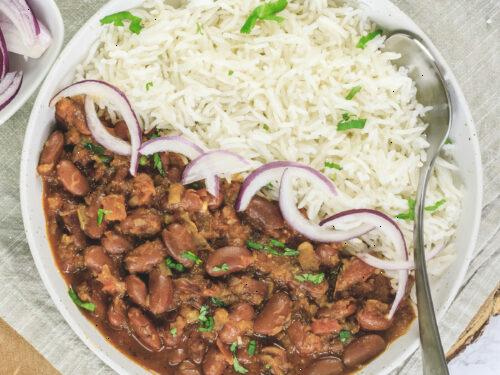rajma: (55, 161, 349, 375)
rice: (116, 0, 435, 134)
